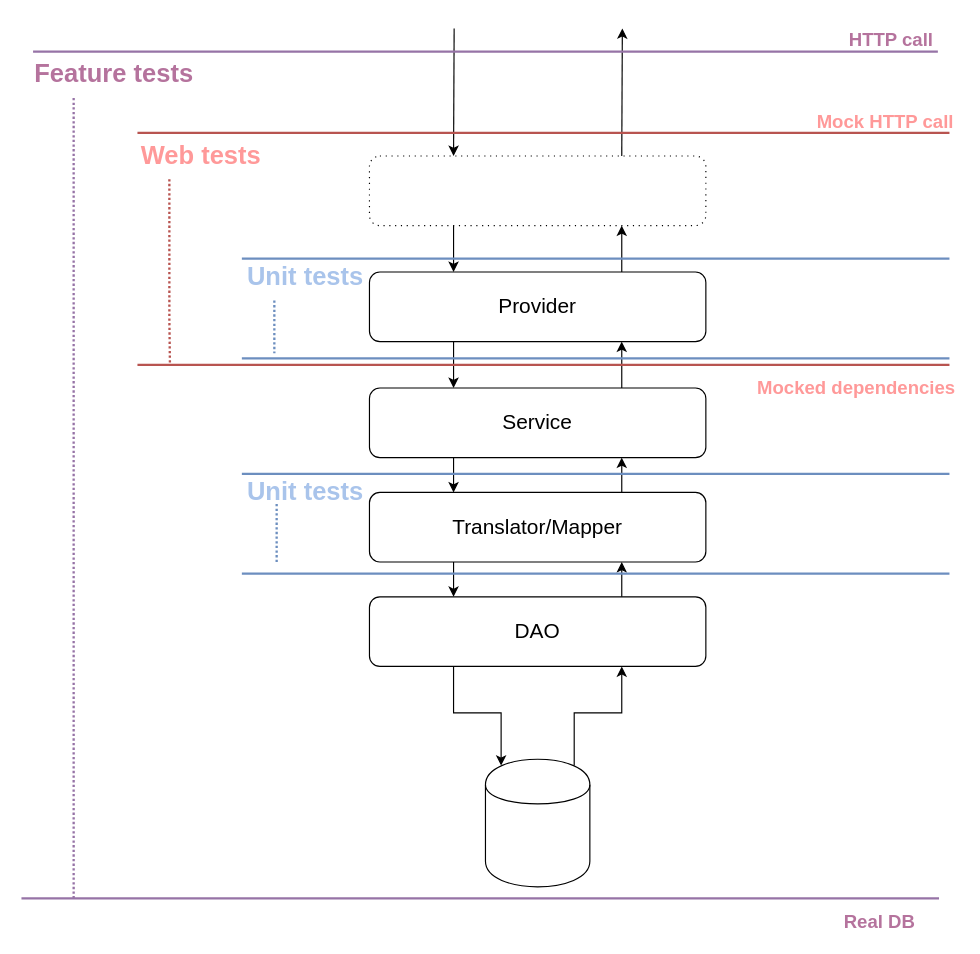
Some shapes in this 980 by 954 pixel diagram are drawn without their labels. The centre of each missing label's shape, as x and y in pixels:
"MySQL" goes at (537,822).
"Web Framework (Spring + Hapi)" goes at (537,190).
